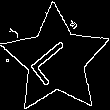L_NE: (28, 32, 84, 87)
